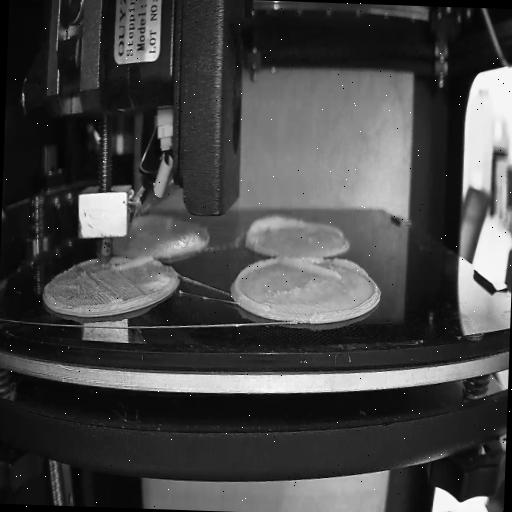over_extrusion: (232, 254, 277, 310), (280, 257, 370, 285), (245, 212, 306, 244), (114, 254, 154, 270)
